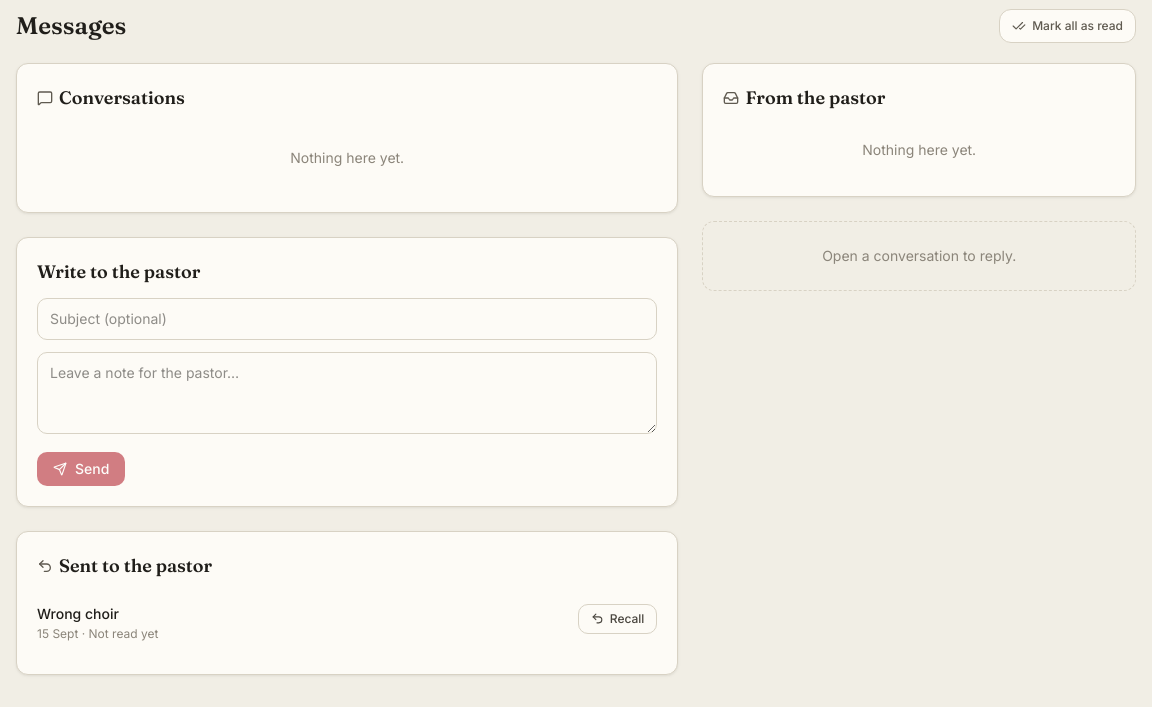
Messages: recalling a message sent to the pastor › keeps the message when the confirm is dismissed
(page scrolled)
Check: the text "Wrong choir" is shown, box [37,604,119,622]
Click the button "Recall".
click(618, 618)  # box [578,604,657,634]
(page scrolled)
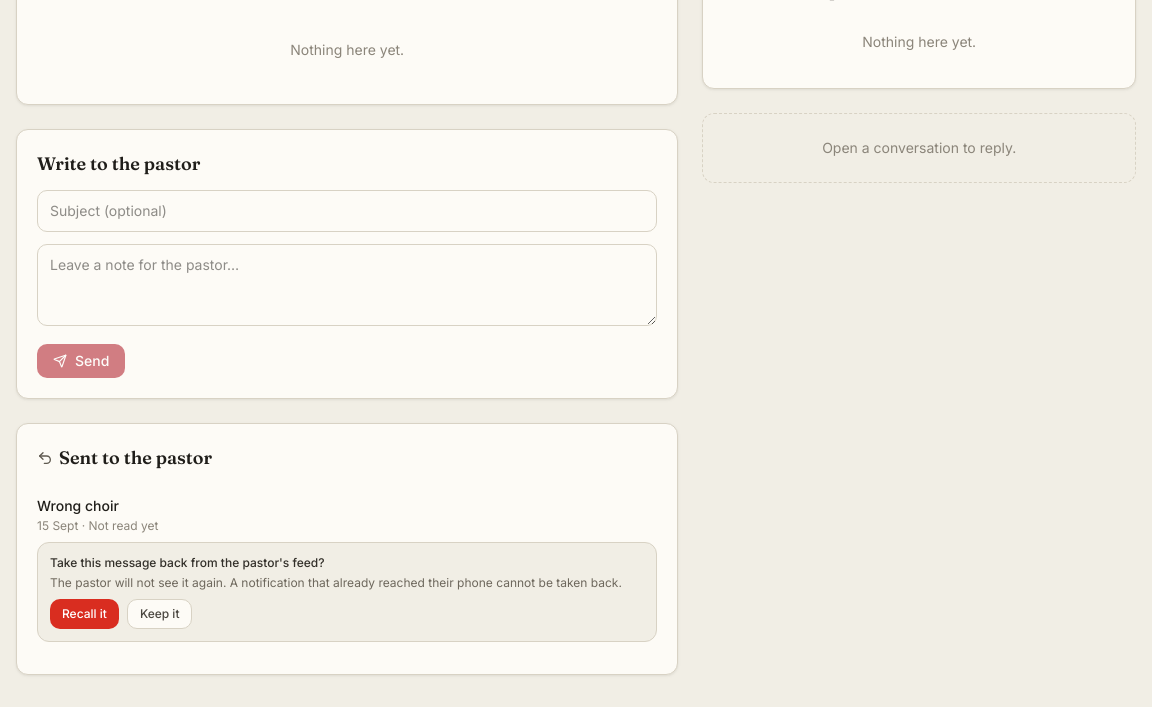
Click the button "Keep it".
click(160, 614)  # box [127,598,192,628]
(page scrolled)
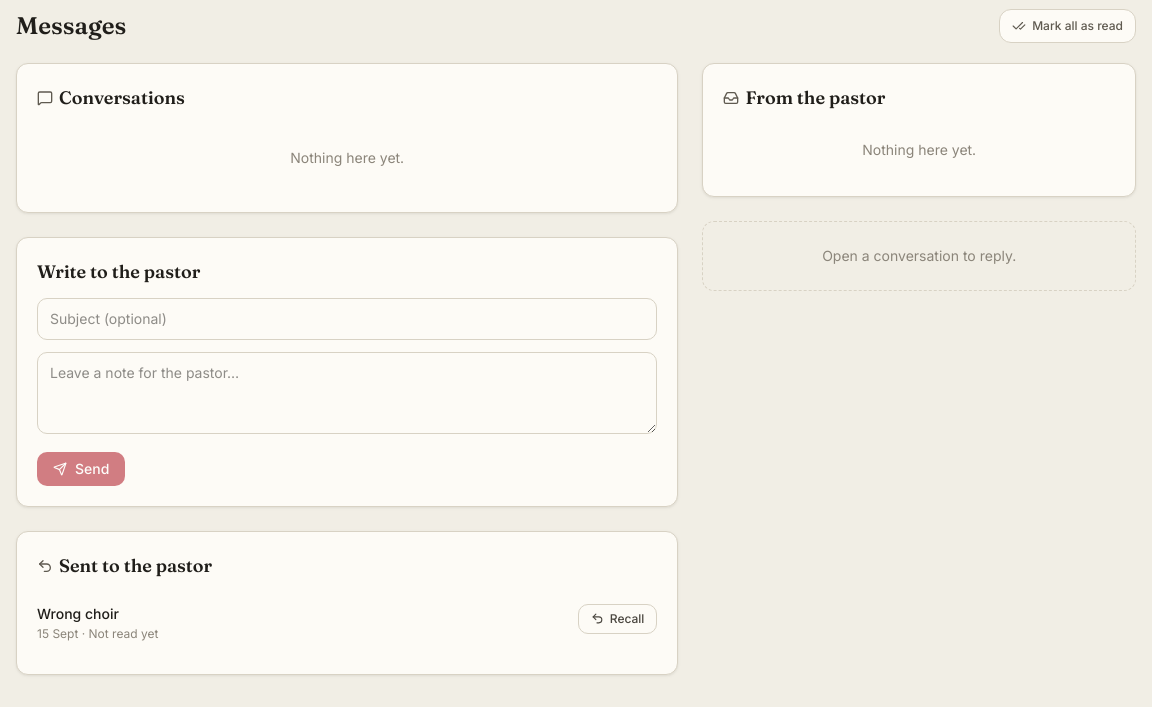
Check: the button "Recall" is shown, box [578,604,657,634]
Check: the text "Take this message back" is gone
